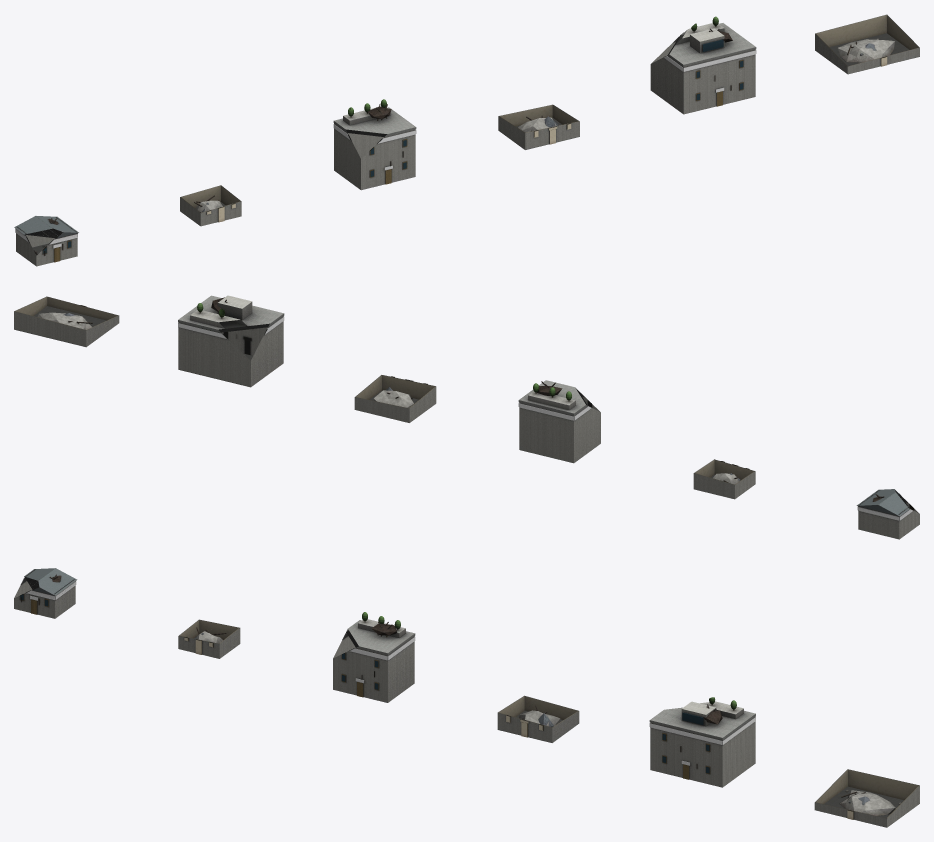
Rendered from modern-monsoon-houses-damage.glb.
3 views of the same model, one above another, from view 1: azimuth 30°, elevation 25°; view 2: azimuth 150°, elevation 25°; view 3: azimuth 330°, elevation 25° (orthographic).
Visible parts, largest first — view 1: LOD0.004, LOD0.002, LOD0.005, LOD0.003, LOD0, LOD0.001; view 2: LOD0.004, LOD0.002, LOD0.005, LOD0.003, LOD0, LOD0.001; view 3: LOD0.004, LOD0.002, LOD0.005, LOD0.003, LOD0, LOD0.001.
Part boxes in pixels (x1=…): LOD0.004: x1=650, y1=16, x2=756, y2=114; LOD0.002: x1=333, y1=99, x2=416, y2=190; LOD0.005: x1=815, y1=14, x2=919, y2=74; LOD0.003: x1=498, y1=104, x2=579, y2=149; LOD0: x1=14, y1=216, x2=78, y2=266; LOD0.001: x1=180, y1=185, x2=241, y2=226; LOD0.004: x1=178, y1=295, x2=284, y2=387; LOD0.002: x1=518, y1=380, x2=600, y2=463; LOD0.005: x1=14, y1=296, x2=119, y2=347; LOD0.003: x1=354, y1=375, x2=436, y2=422; LOD0: x1=856, y1=489, x2=919, y2=539; LOD0.001: x1=693, y1=459, x2=755, y2=499; LOD0.004: x1=649, y1=697, x2=755, y2=787; LOD0.002: x1=333, y1=612, x2=415, y2=702; LOD0.005: x1=814, y1=769, x2=919, y2=827; LOD0.003: x1=497, y1=695, x2=579, y2=742; LOD0: x1=14, y1=568, x2=77, y2=618; LOD0.001: x1=178, y1=619, x2=240, y2=658.
Size of what is drawn, in the model's own units: 16.06 by 1.14 by 1.07.
2 materials, 2 textured.
